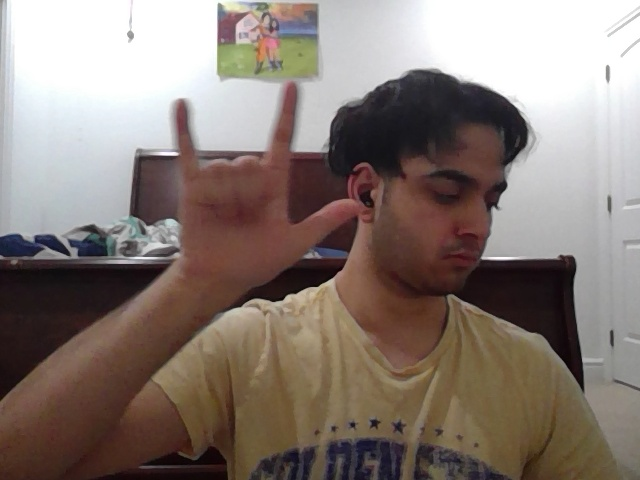iLoveYou: (163, 81, 357, 292)
